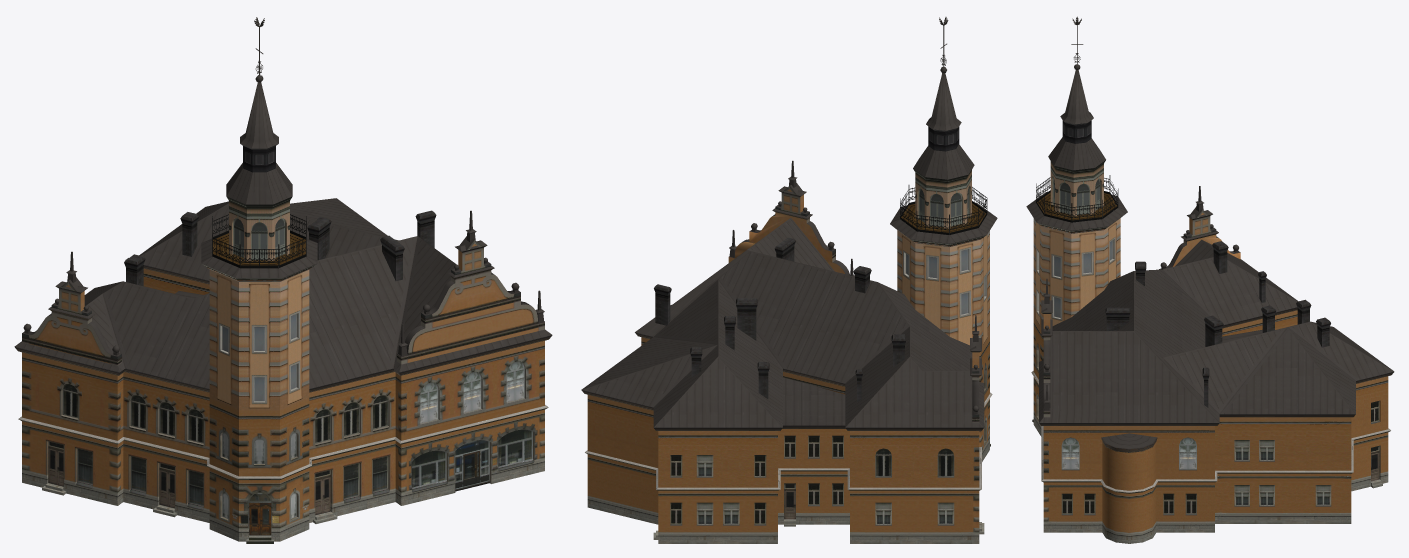
The model's file is Town Hall.glb.
3 renders of one model, left to right at view 1: azimuth 30°, elevation 25°; view 2: azimuth 150°, elevation 25°; view 3: azimuth 270°, elevation 25°, orthographic. The views are drawn at different scales.
Visible parts, largest first — view 1: Main_skp_front_default_0; view 2: Main_skp_front_default_0; view 3: Main_skp_front_default_0.
Part boxes in pixels (x1,y1,x2,y2): Main_skp_front_default_0: [14, 17, 552, 543]; Main_skp_front_default_0: [581, 17, 997, 543]; Main_skp_front_default_0: [1026, 16, 1394, 543].
Bounding box in the file's own units: 3688 × 4017 × 3264.
1 material, 1 textured.
